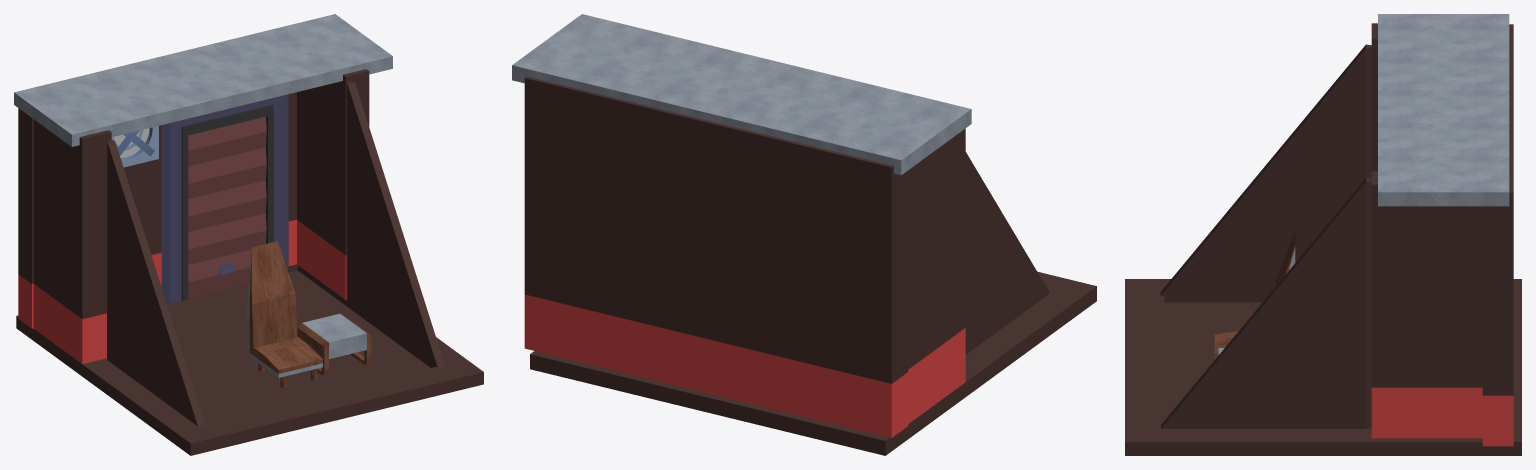
The model's file is cockpitV3.fbx.
3 views of the same model, side by side, from view 1: azimuth 30°, elevation 25°; view 2: azimuth 150°, elevation 25°; view 3: azimuth 270°, elevation 25° (orthographic). The views are drawn at different scales.
Visible parts, largest first — view 1: mergedBlocks; view 2: mergedBlocks; view 3: mergedBlocks.
Boxes of the visible parts, x1,y1,x2,y2 form: mergedBlocks: (14, 14, 483, 455); mergedBlocks: (512, 14, 1096, 455); mergedBlocks: (1125, 14, 1521, 455).
Size of the model in its own units: 54.23 by 39 by 51.
